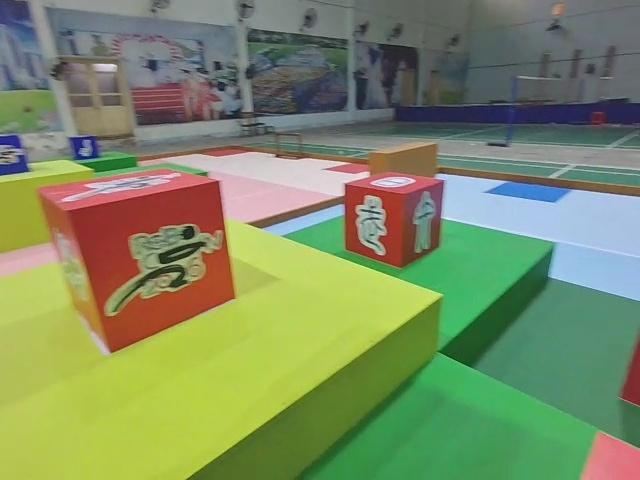R1: (37, 170, 236, 353)
R2 Fake: (343, 172, 445, 266)
